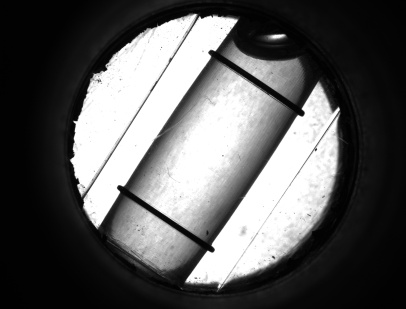line: (128, 201, 198, 233), (223, 66, 290, 95)
